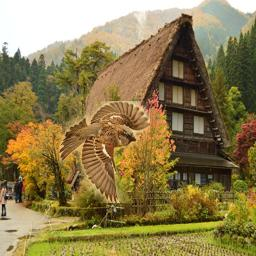Sparrow: (59, 101, 150, 203)
